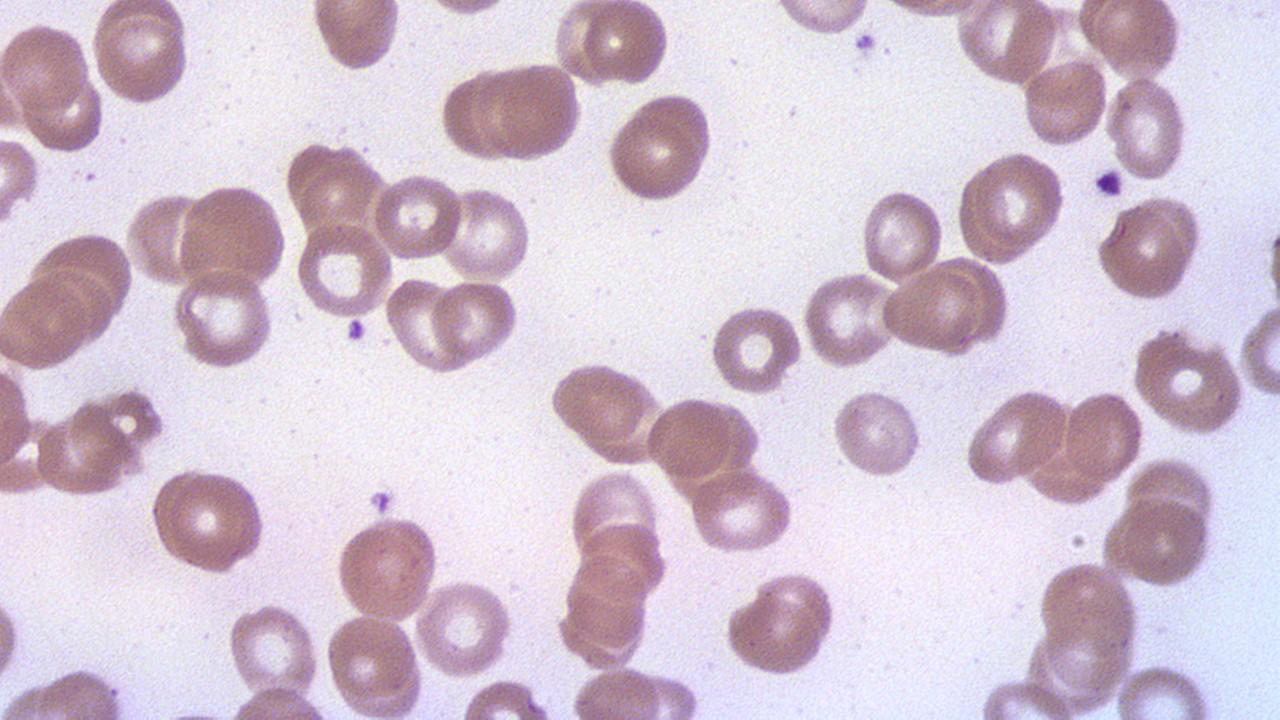Platelets: (1092, 165, 1124, 200), (850, 31, 880, 57), (343, 316, 369, 344)
RBC: (1131, 326, 1247, 439), (176, 181, 288, 295), (605, 91, 716, 205), (334, 512, 442, 624), (472, 59, 587, 163), (964, 148, 1070, 260), (163, 466, 270, 576), (880, 265, 1004, 357), (960, 386, 1069, 489), (88, 2, 193, 108), (171, 267, 278, 370), (1101, 493, 1217, 588), (1036, 559, 1144, 657), (322, 612, 423, 716), (412, 578, 515, 678), (291, 221, 395, 319), (1093, 204, 1195, 303), (224, 602, 322, 704), (801, 270, 898, 370), (706, 300, 805, 397), (688, 466, 796, 554), (1103, 75, 1189, 185), (0, 275, 97, 372), (722, 591, 830, 678), (439, 184, 533, 282), (123, 186, 210, 291), (34, 405, 131, 499), (383, 273, 471, 376), (954, 2, 1059, 88), (544, 360, 654, 442), (286, 136, 376, 236), (0, 19, 92, 116), (372, 170, 466, 264), (831, 386, 925, 480), (860, 185, 946, 285), (645, 394, 741, 482), (1021, 56, 1109, 151), (1063, 387, 1145, 485), (584, 0, 672, 90), (432, 275, 520, 365), (1089, 1, 1183, 83), (562, 557, 648, 645), (438, 64, 512, 166), (308, 1, 402, 75), (23, 76, 106, 154), (752, 568, 837, 642), (552, 0, 620, 88), (1110, 660, 1216, 716), (568, 662, 662, 717), (976, 676, 1079, 720), (0, 355, 35, 482), (1238, 299, 1280, 398), (223, 684, 336, 720), (0, 134, 42, 228), (460, 678, 553, 720), (769, 1, 875, 34), (0, 577, 27, 702), (877, 0, 994, 23), (418, 0, 516, 21), (1263, 206, 1280, 321)
WBC: (675, 0, 1280, 702)
